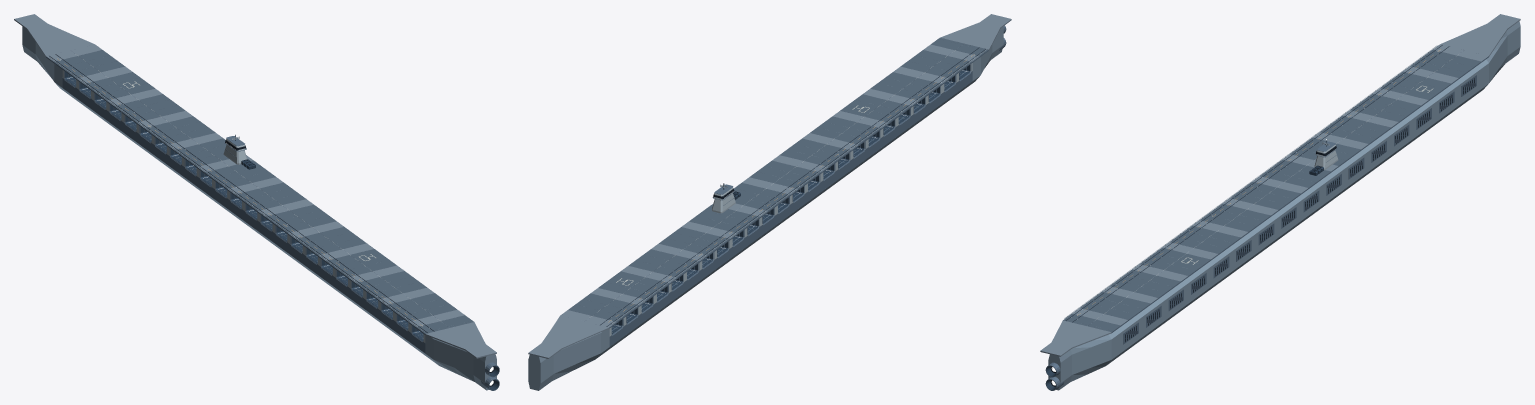
File: carrier.glb
3 renders of one model, left to right at view 1: azimuth 30°, elevation 25°; view 2: azimuth 150°, elevation 25°; view 3: azimuth 330°, elevation 25°, orthographic.
Visible parts, largest first — view 1: carrier-template-deck, carrier-template-hull, carrier-template-dark; view 2: carrier-template-deck, carrier-template-hull, carrier-template-dark; view 3: carrier-template-deck, carrier-template-hull, carrier-template-dark.
Boxes of the visible parts, x1,y1,x2,y2 form: carrier-template-deck: (14,14,496,358); carrier-template-hull: (22,26,499,390); carrier-template-dark: (49,54,498,390); carrier-template-deck: (528,14,1011,358); carrier-template-hull: (528,25,1006,390); carrier-template-dark: (600,47,985,334); carrier-template-deck: (1040,14,1520,356); carrier-template-hull: (1045,21,1520,390); carrier-template-dark: (1046,45,1475,390).
Size of the model in its own units: 60.55 by 70.5 by 987.
